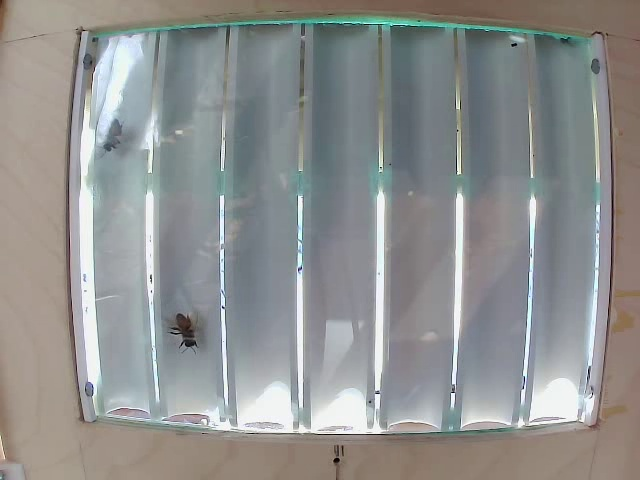bee: (167, 309, 205, 355), (102, 128, 133, 160)
